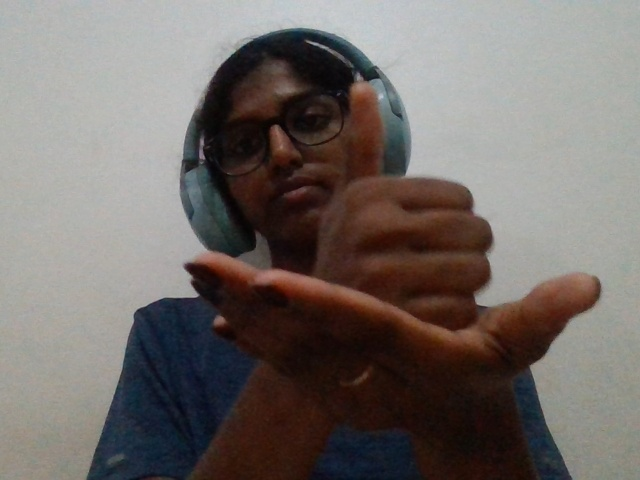Help: (163, 73, 628, 475)
